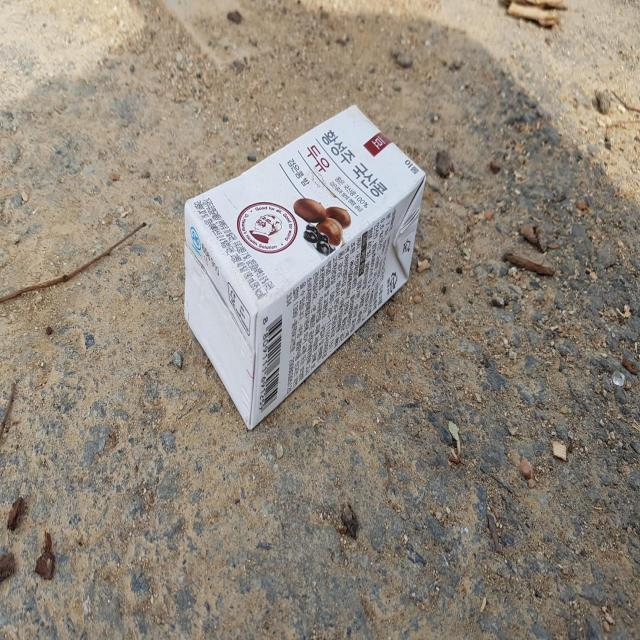paperpack: (184, 104, 426, 428)
